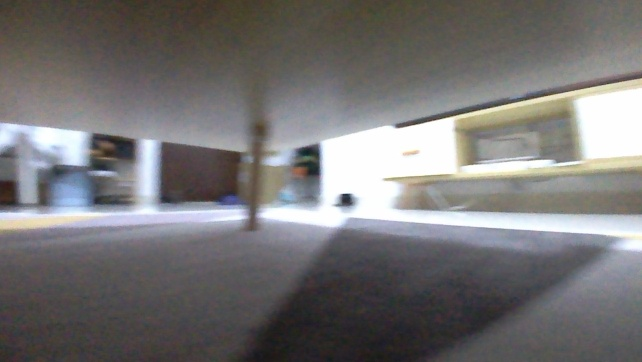blanket: (0, 203, 641, 361)
